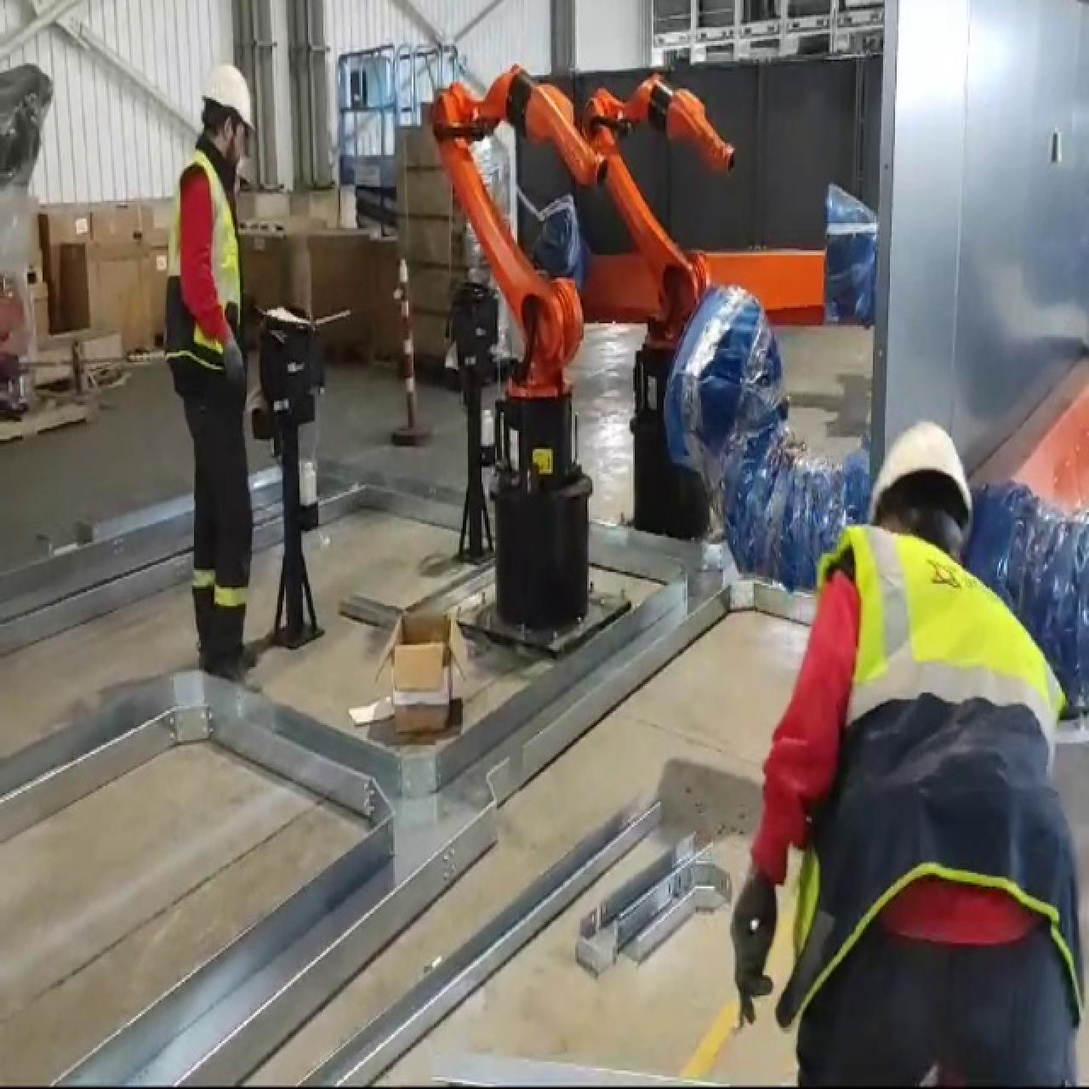Person: (733, 393, 1089, 1087), (146, 42, 304, 694)
Safety_Vest: (768, 538, 1081, 1025), (153, 145, 268, 381)
